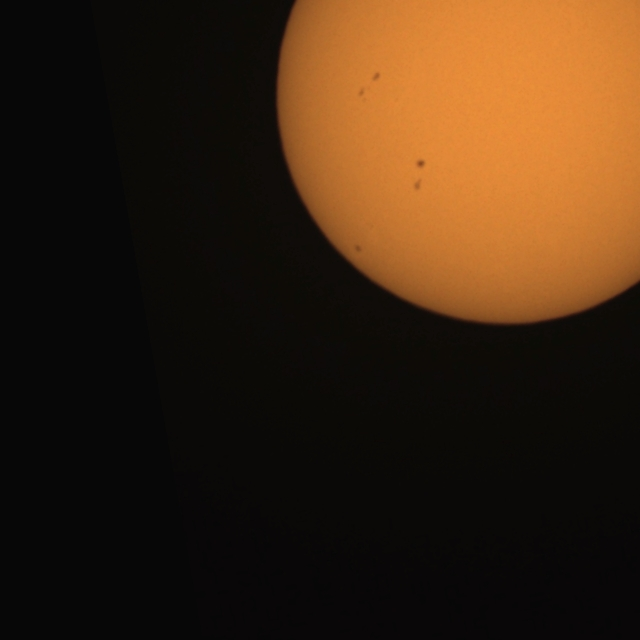sunspot: (357, 71, 381, 102), (412, 157, 428, 189), (357, 84, 368, 102), (412, 177, 423, 193), (414, 158, 427, 170), (370, 71, 382, 83), (353, 243, 363, 254)
